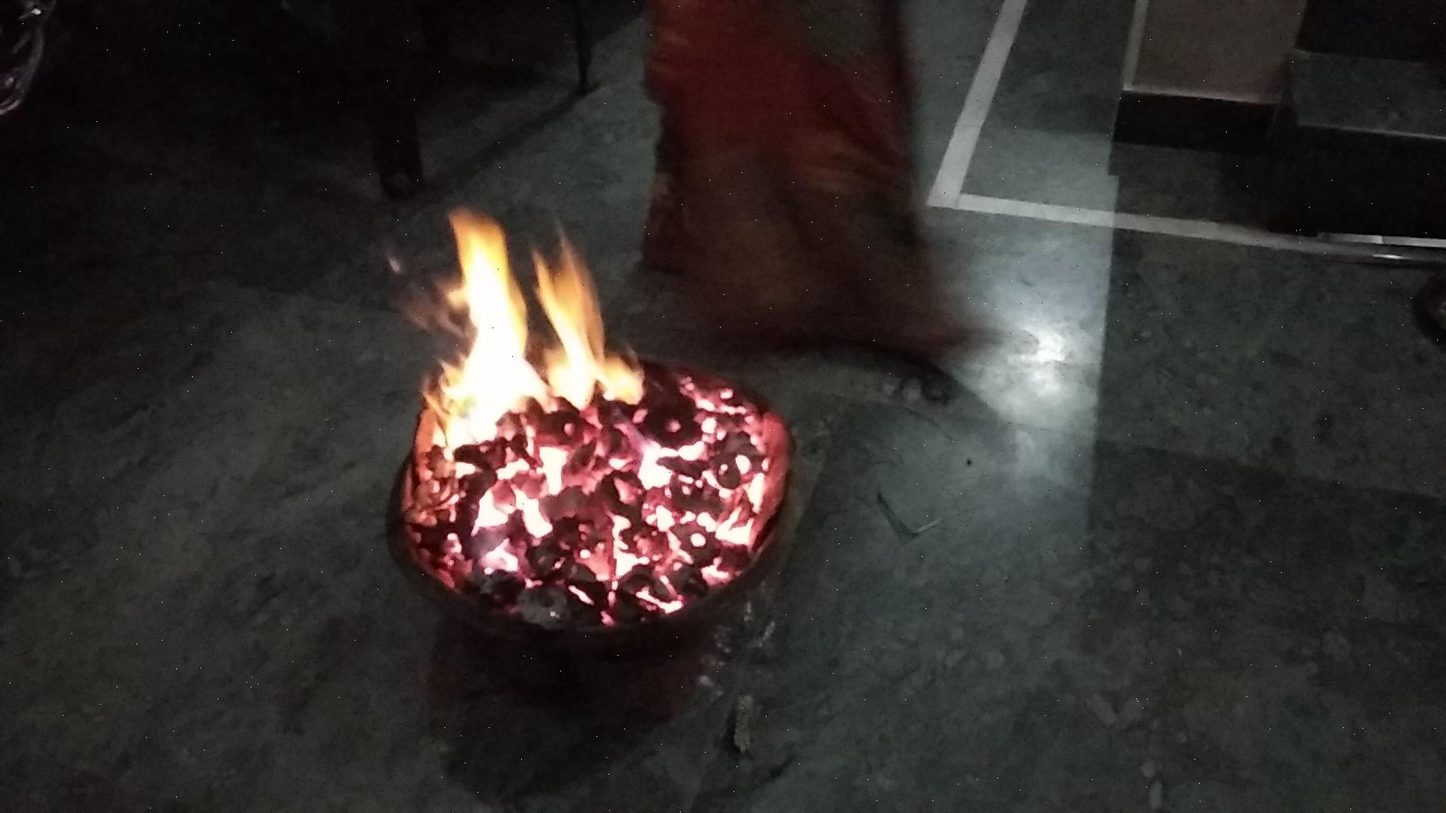fire: (401, 175, 656, 640), (656, 354, 784, 600)
